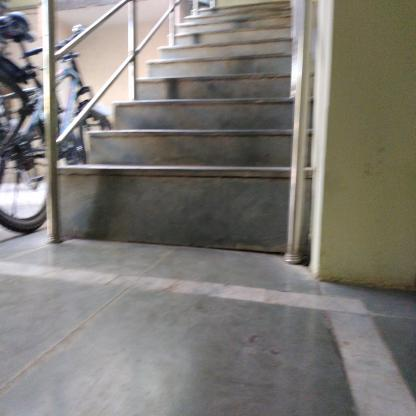stairs: (185, 16, 285, 267)
